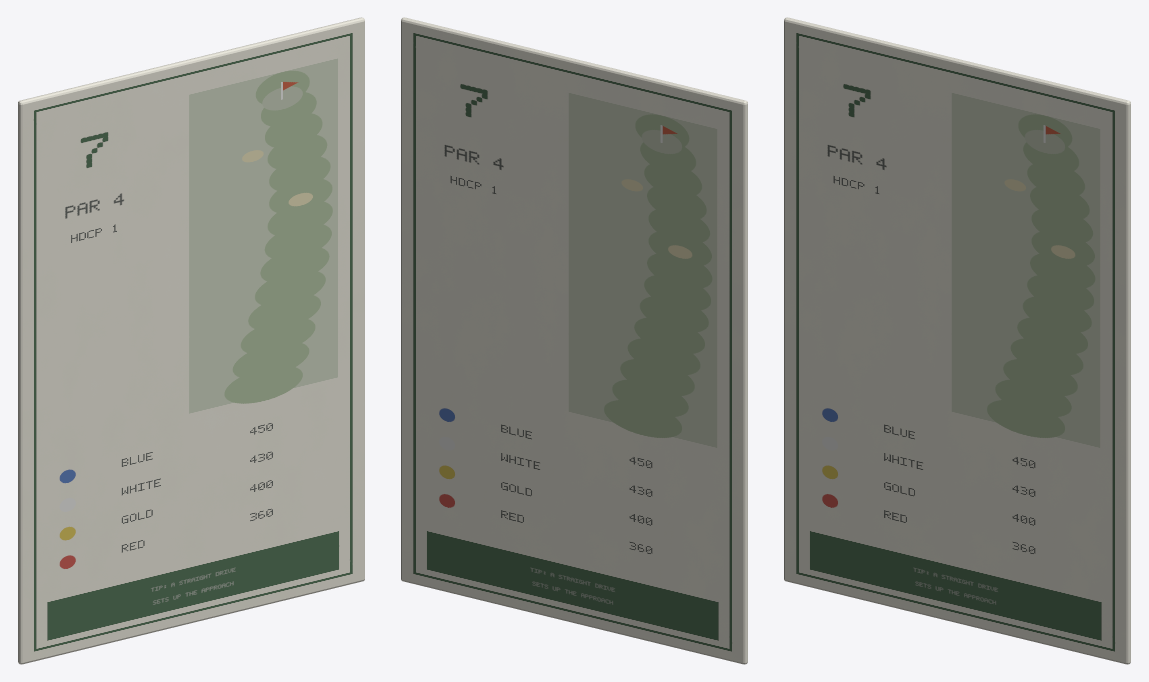
File: pf_scorecard_holeguide.glb
3 views of the same model, side by side, from view 1: azimuth 30°, elevation 25°; view 2: azimuth 150°, elevation 25°; view 3: azimuth 330°, elevation 25° (orthographic).
Visible parts, largest first — view 1: pf_scorecard_holeguide_card; view 2: pf_scorecard_holeguide_card; view 3: pf_scorecard_holeguide_card.
Part boxes in pixels (x1,y1,x2,y2): pf_scorecard_holeguide_card: (18,17,364,664); pf_scorecard_holeguide_card: (401,17,747,664); pf_scorecard_holeguide_card: (784,17,1130,664).
Size of the model in its own units: 0.09 by 0.14 by 0.004.
Materials: 2 (1 with a texture image).
